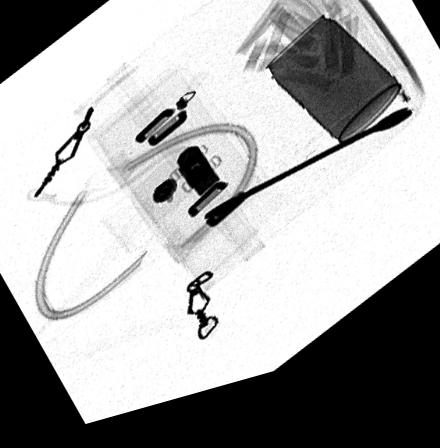Wrench: (199, 129, 413, 241)
